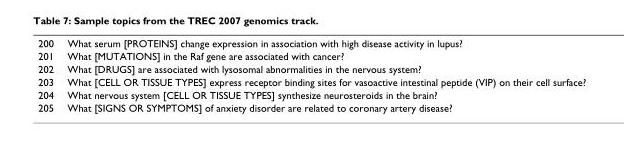table: (37, 36, 585, 113)
table column: (59, 36, 585, 113), (37, 36, 59, 113)
table row: (37, 36, 585, 49), (37, 49, 585, 62), (37, 74, 585, 87), (37, 87, 585, 100), (37, 100, 585, 113), (37, 62, 585, 74)
